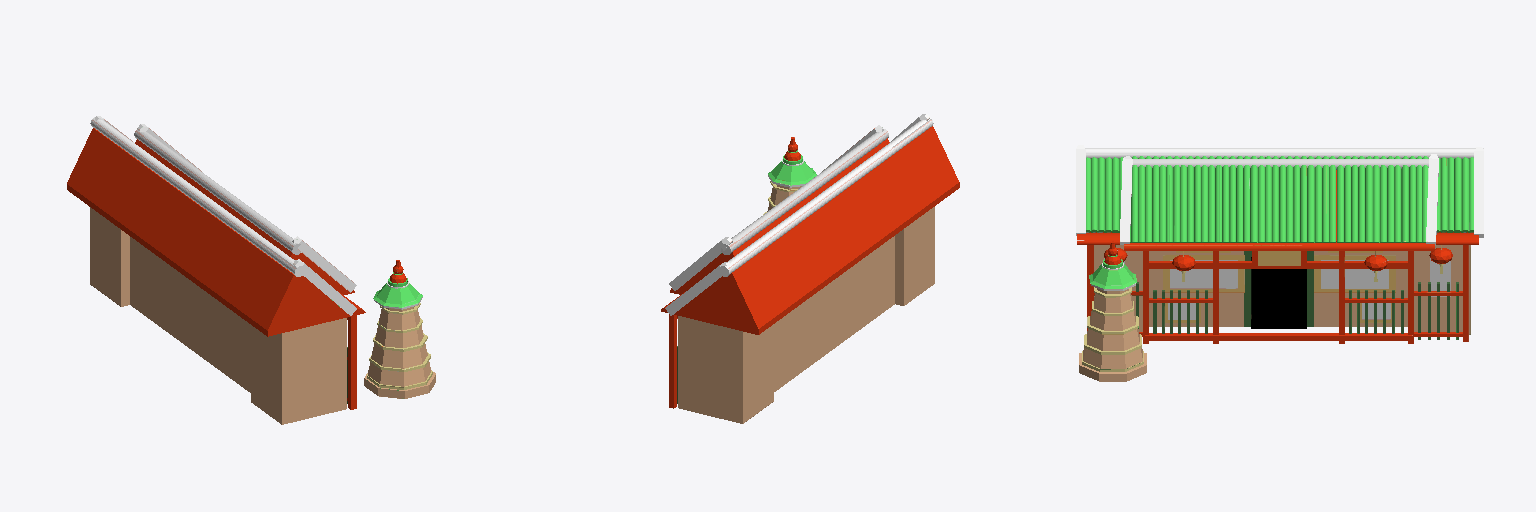
The picture shows the model from 3 angles: view 1: azimuth 30°, elevation 25°; view 2: azimuth 150°, elevation 25°; view 3: azimuth 270°, elevation 25°; orthographic projection.
Visible parts, largest first — view 1: Cylinder.036_Cylinder.037; view 2: Cylinder.036_Cylinder.037; view 3: Cylinder.036_Cylinder.037.
Boxes of the visible parts, box(x1,y1,x2,y2) form: Cylinder.036_Cylinder.037: box(67, 116, 435, 424); Cylinder.036_Cylinder.037: box(661, 114, 959, 423); Cylinder.036_Cylinder.037: box(1076, 145, 1483, 381).
Size of the model in its own units: 3.5 by 3.1 by 6.88.
Materials: 1 (1 with a texture image).